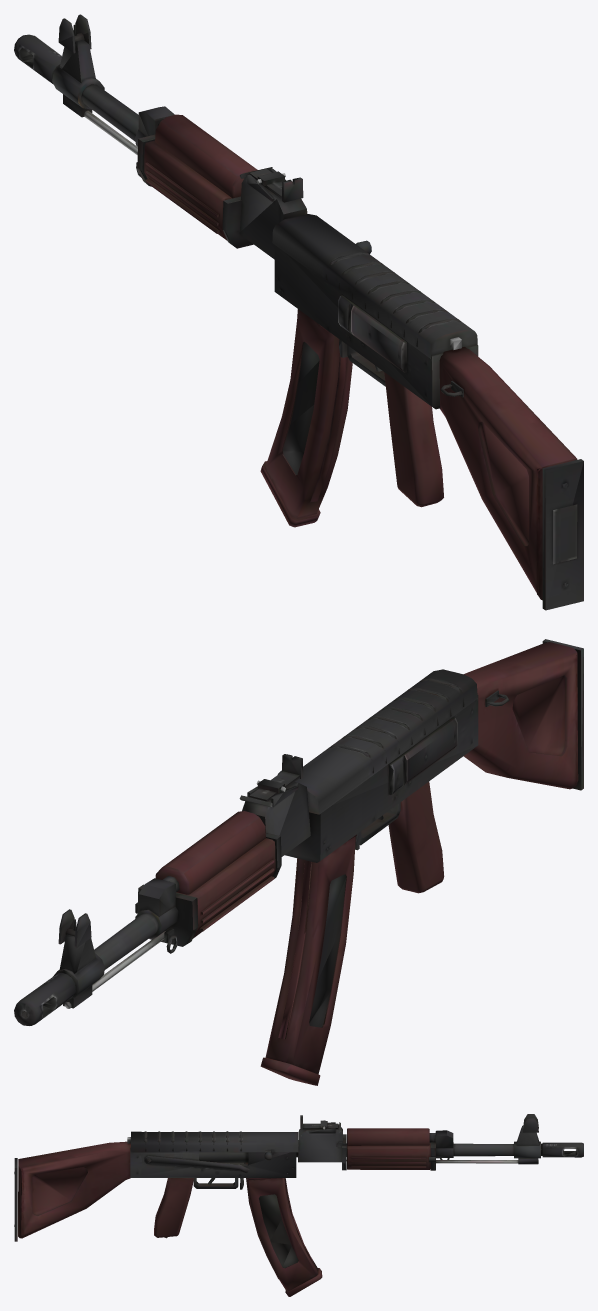
The picture shows the model from 3 angles, top to bottom: view 1: azimuth 30°, elevation 25°; view 2: azimuth 150°, elevation 25°; view 3: azimuth 270°, elevation 25°; orthographic projection. The views are drawn at different scales.
Visible parts, largest first — view 1: ka74_lod; view 2: ka74_lod; view 3: ka74_lod.
Part boxes in pixels (x1,y1,x2,y2): ka74_lod: (14,14,583,610); ka74_lod: (14,639,583,1085); ka74_lod: (14,1114,583,1296).
Size of the model in its own units: 0.0792 by 0.3245 by 0.9419.
Materials: 1 (1 with a texture image).
